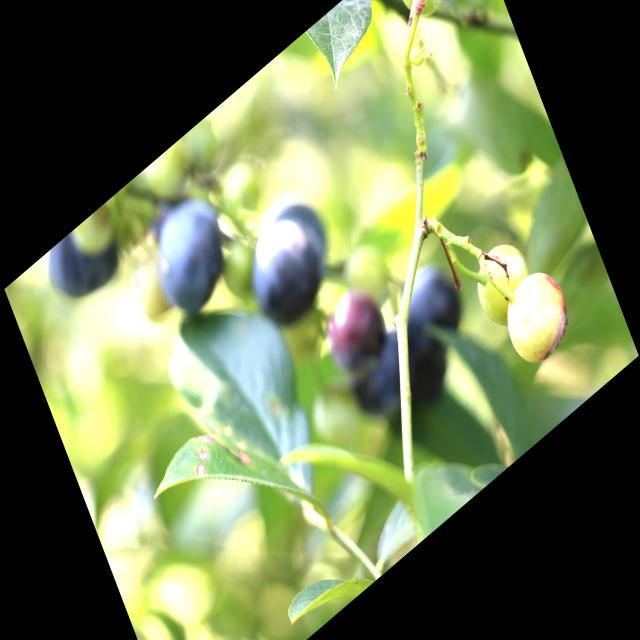blueberry: (240, 188, 340, 337), (143, 182, 239, 330), (314, 267, 392, 383)
blueberry-unripe: (493, 251, 583, 384), (464, 226, 543, 342), (390, 0, 456, 31)
